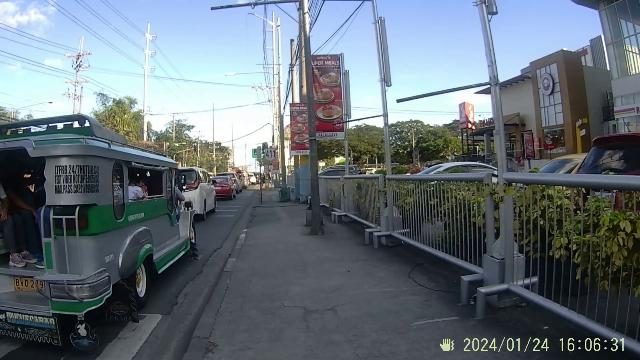lamp_post: (224, 14, 282, 160)
utility_post: (300, 19, 330, 233), (136, 19, 160, 127), (63, 38, 93, 114)
